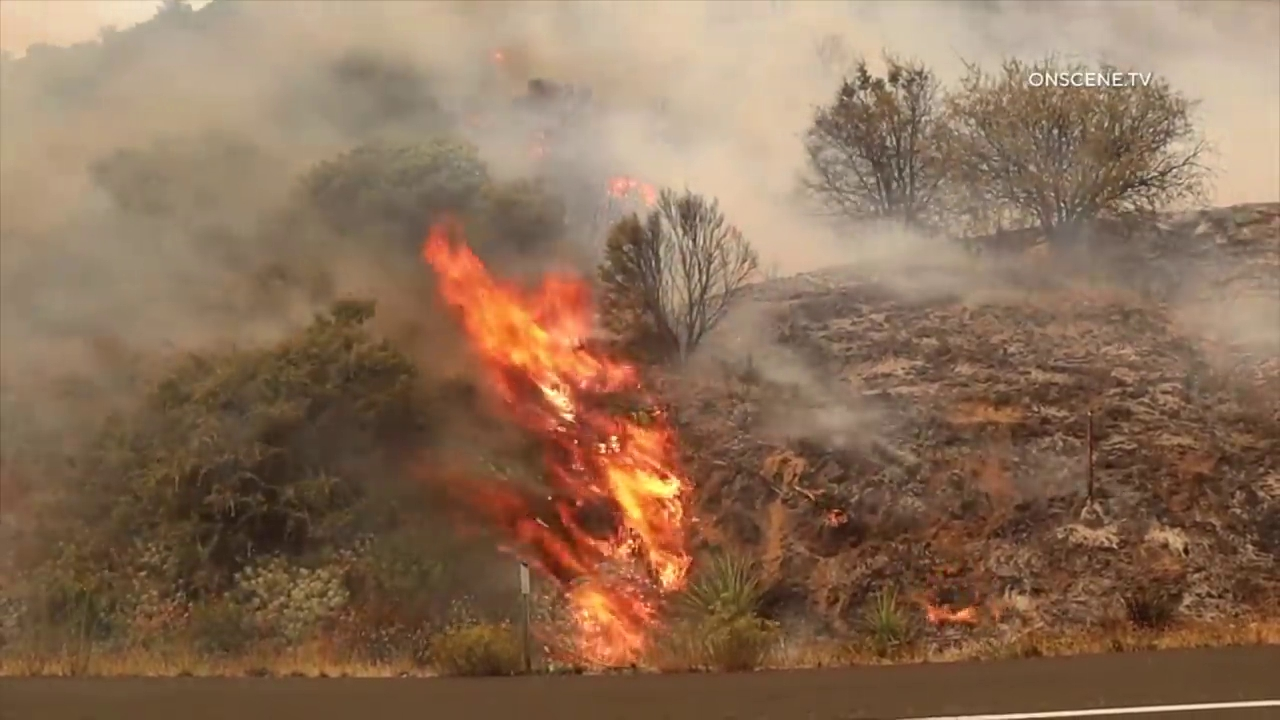forest_fire: (422, 219, 690, 663)
